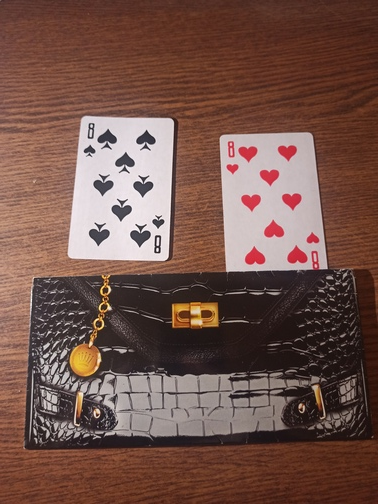eighthearts: (215, 132, 330, 273)
eightspades: (67, 115, 175, 261)
